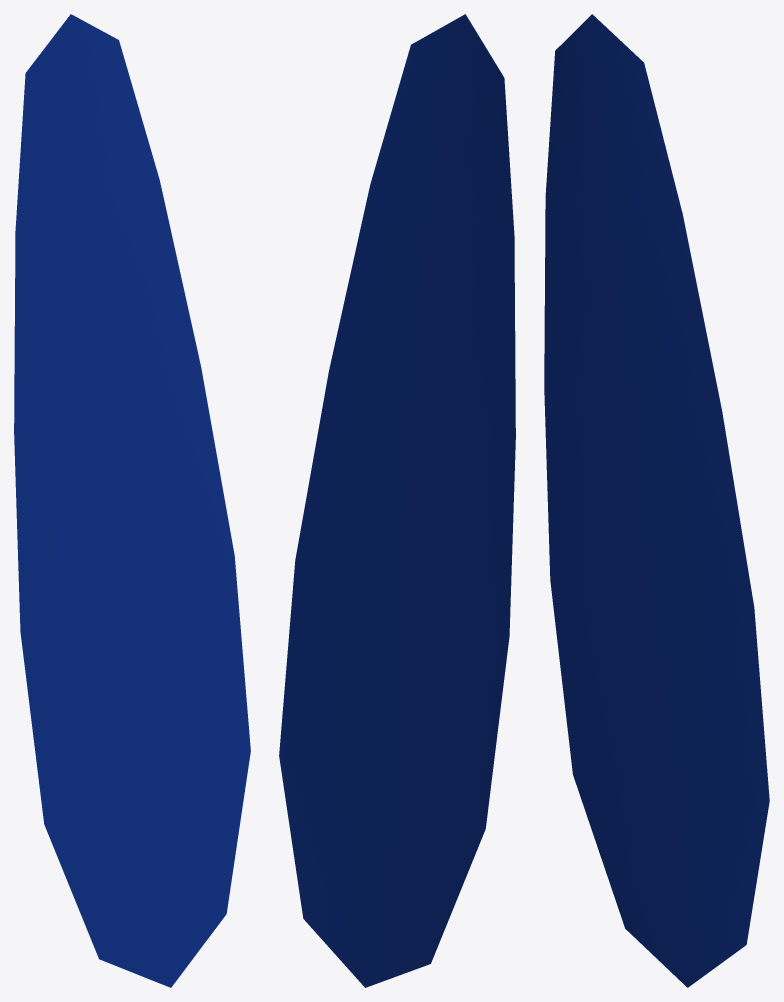
The model's file is budgie_feather_flight_primary_007.obj.
The picture shows the model from 3 angles, left to right: view 1: azimuth 30°, elevation 25°; view 2: azimuth 150°, elevation 25°; view 3: azimuth 330°, elevation 25°; orthographic projection. The views are drawn at different scales.
Visible parts, largest first — view 1: feather_flight_primary_007; view 2: feather_flight_primary_007; view 3: feather_flight_primary_007.
Part boxes in pixels (x1,y1,x2,y2): feather_flight_primary_007: (14, 14, 250, 987); feather_flight_primary_007: (279, 14, 515, 987); feather_flight_primary_007: (544, 14, 769, 987).
Bounding box in the file's own units: 0.0138 × 0.0556 × 0.000322.
